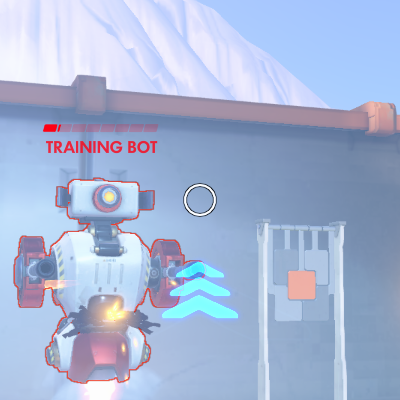hpbar: (43, 124, 158, 132)
